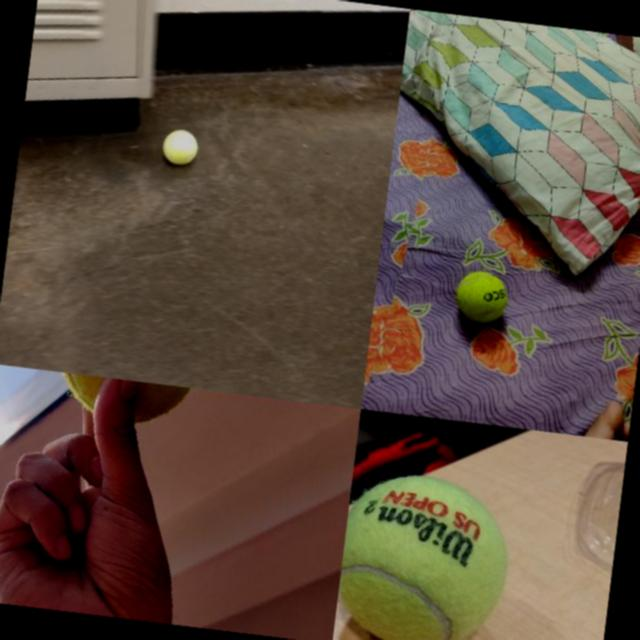tennis-ball: (332, 465, 517, 640), (48, 371, 196, 431), (453, 268, 510, 326), (159, 126, 199, 166)
